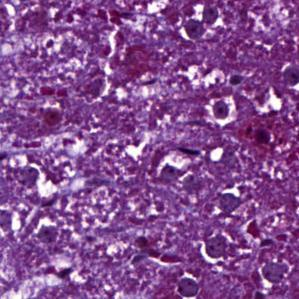inflammation: (180, 2, 223, 46), (201, 229, 234, 268), (206, 93, 240, 126), (259, 256, 292, 289), (155, 156, 188, 182)
